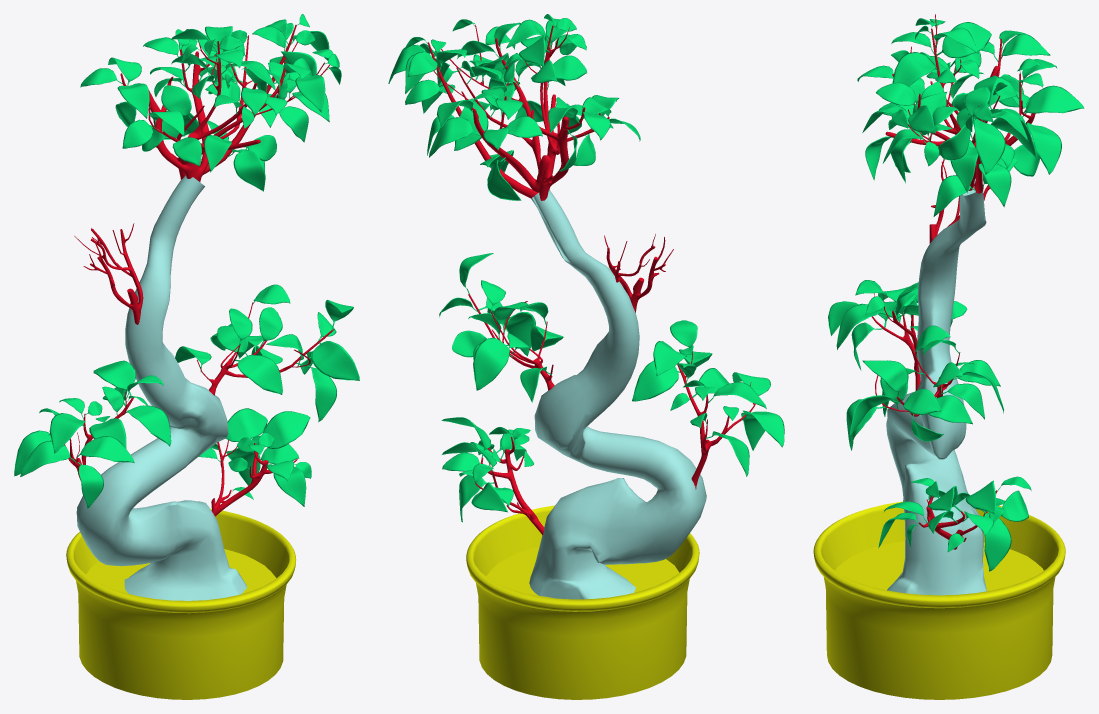
File: Bonsai15.01.fbx
3 views of the same model, side by side, from view 1: azimuth 30°, elevation 25°; view 2: azimuth 150°, elevation 25°; view 3: azimuth 270°, elevation 25° (orthographic). The views are drawn at different scales.
Visible parts, largest first — view 1: STAMM, TOPF, StammOben, polySurface42, sweep7, B9, B13, B15, sweep18, B8, B1, B18 (+19 smaller); view 2: STAMM, TOPF, StammOben, sweep7, B12, B17, polySurface42, sweep18, sweep19, AST, B4, sweep25 (+9 smaller); view 3: TOPF, STAMM, B25, B10, B4, B2, B26, B7, A, StammOben, A19, A4 (+26 smaller).
Boxes of the visible parts, x1=… form: STAMM: x1=76, y1=175, x2=246, y2=600; TOPF: x1=66, y1=508, x2=296, y2=699; StammOben: x1=120, y1=35, x2=329, y2=181; polySurface42: x1=74, y1=223, x2=143, y2=324; sweep7: x1=148, y1=40, x2=260, y2=179; B9: x1=311, y1=341, x2=359, y2=380; B13: x1=235, y1=354, x2=282, y2=394; B15: x1=263, y1=411, x2=310, y2=448; sweep18: x1=211, y1=440, x2=297, y2=516; B8: x1=226, y1=408, x2=267, y2=441; B1: x1=125, y1=405, x2=171, y2=446; B18: x1=77, y1=436, x2=134, y2=462; STAMM: x1=529, y1=190, x2=706, y2=599; TOPF: x1=466, y1=505, x2=699, y2=699; StammOben: x1=433, y1=24, x2=585, y2=192; sweep7: x1=525, y1=25, x2=609, y2=200; B12: x1=473, y1=337, x2=509, y2=390; B17: x1=632, y1=360, x2=680, y2=401; polySurface42: x1=604, y1=234, x2=665, y2=312; sweep18: x1=474, y1=437, x2=544, y2=535; sweep19: x1=677, y1=351, x2=755, y2=489; AST: x1=468, y1=294, x2=554, y2=390; B4: x1=429, y1=117, x2=480, y2=157; sweep25: x1=427, y1=42, x2=538, y2=198; TOPF: x1=813, y1=501, x2=1065, y2=699; STAMM: x1=886, y1=178, x2=986, y2=595; B25: x1=973, y1=118, x2=1005, y2=174; B10: x1=1023, y1=85, x2=1084, y2=113; B4: x1=1026, y1=122, x2=1061, y2=174; B2: x1=983, y1=511, x2=1011, y2=571; B26: x1=936, y1=22, x2=991, y2=58; B7: x1=892, y1=52, x2=937, y2=86; A: x1=862, y1=360, x2=908, y2=396; StammOben: x1=907, y1=38, x2=1035, y2=190; A19: x1=928, y1=395, x2=972, y2=424; A4: x1=978, y1=163, x2=1011, y2=207.
Bounding box in the file's own units: 33.11 × 56.08 × 21.15.
